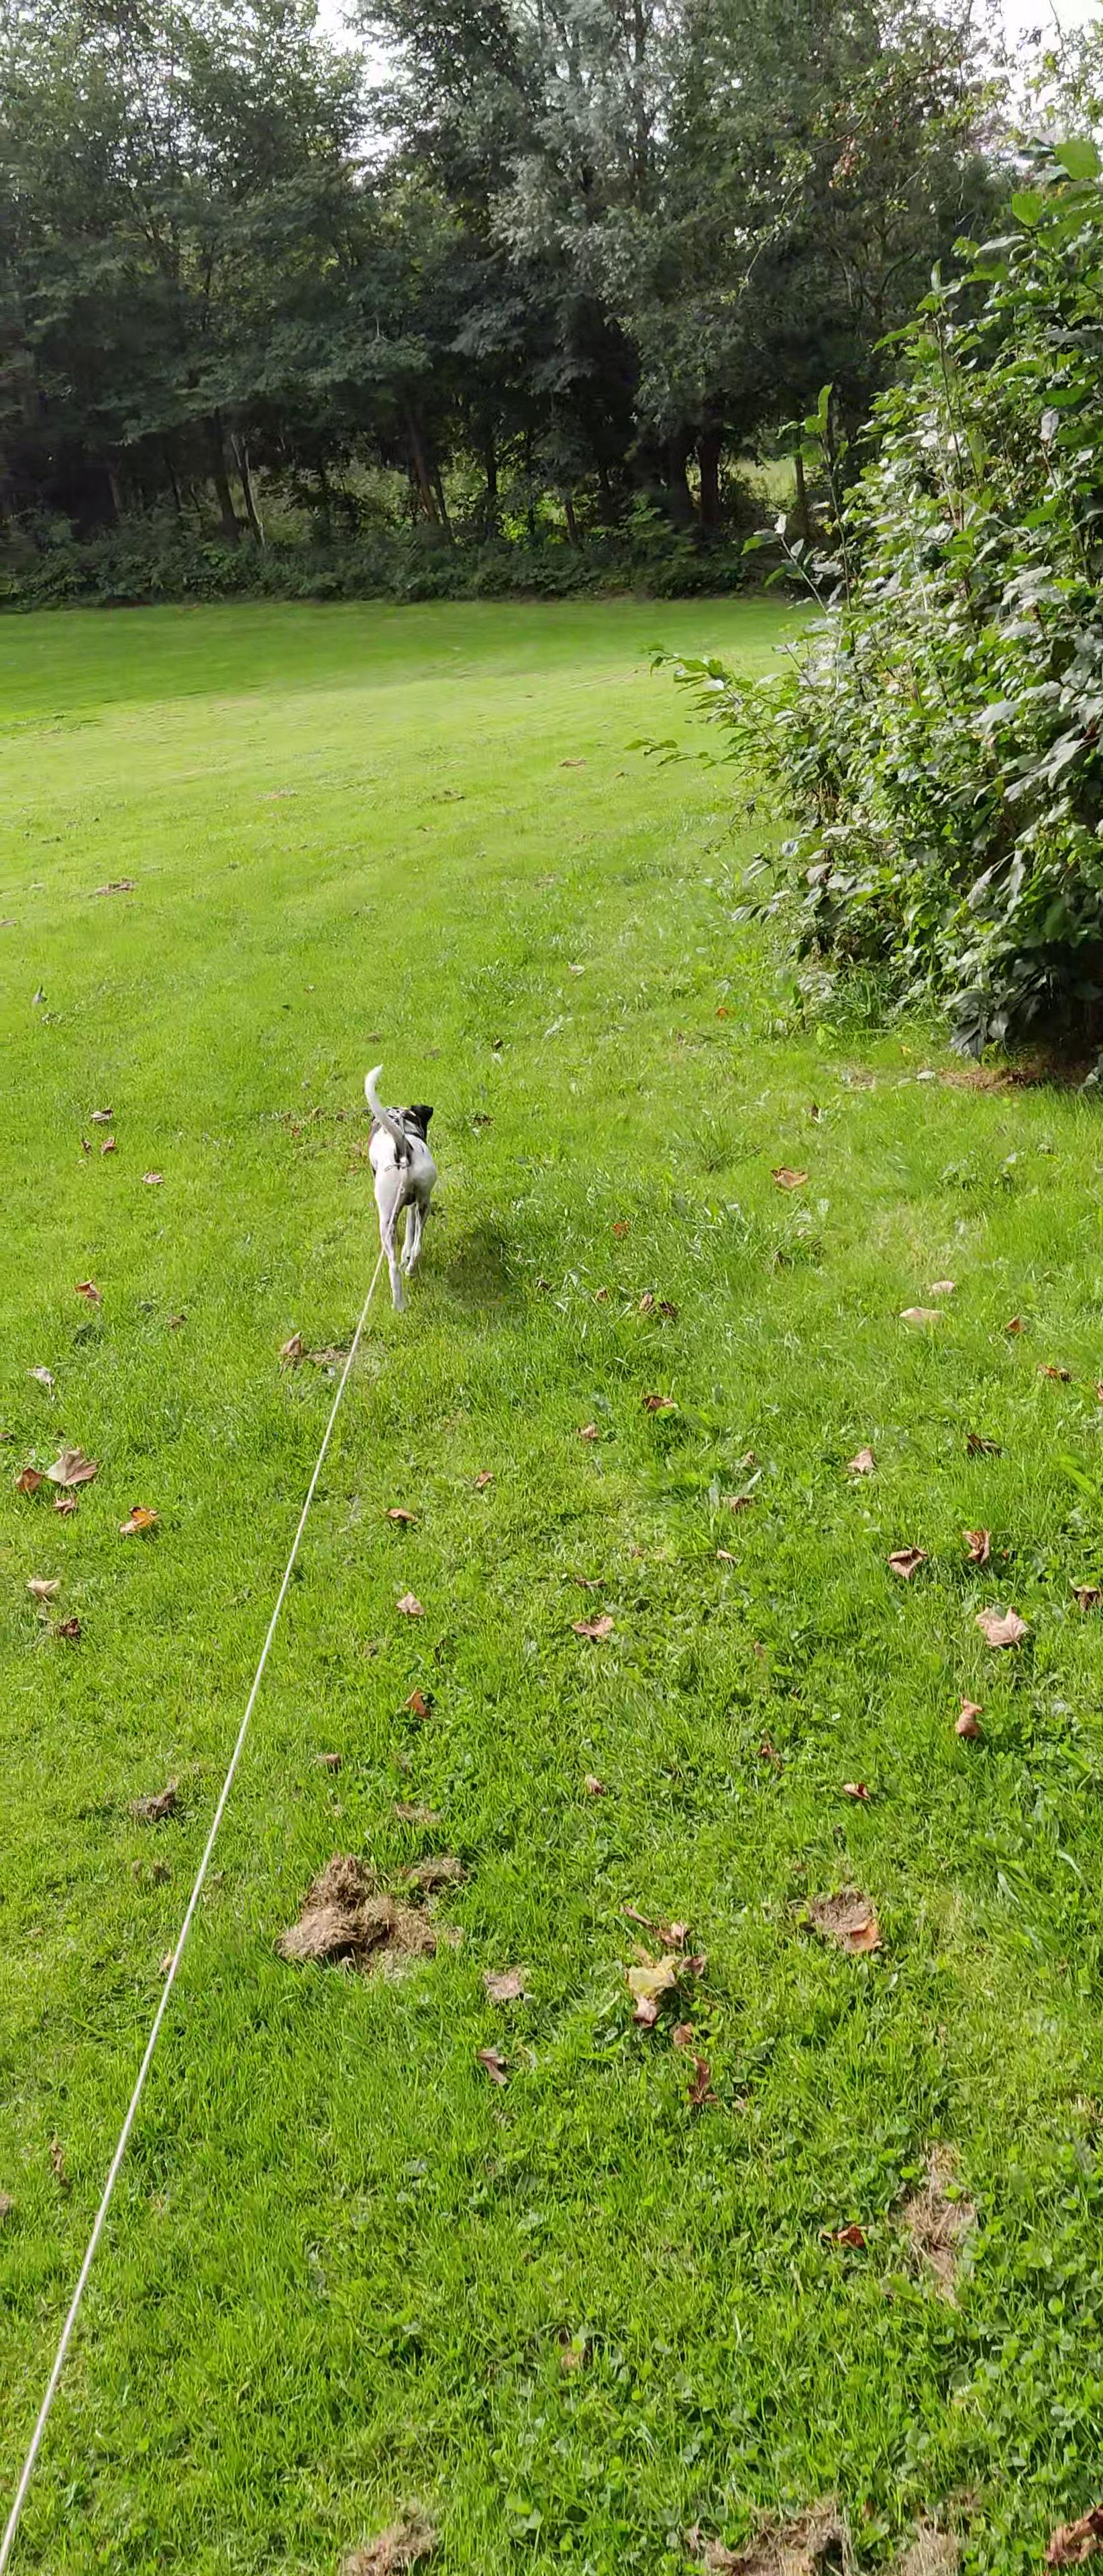Dog: (335, 1055, 457, 1321)
